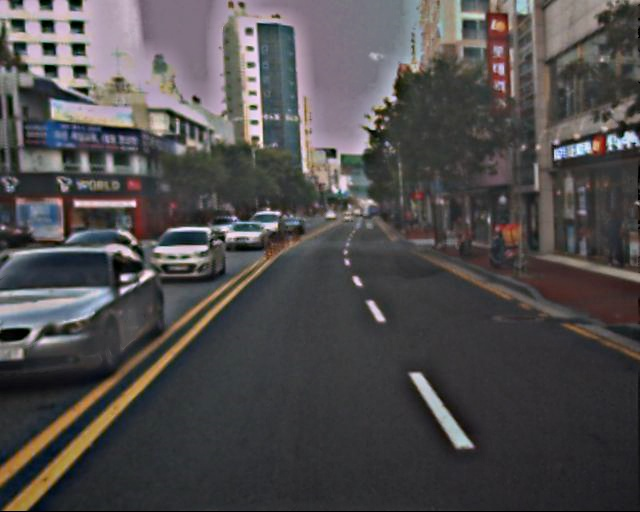person: (597, 209, 626, 267)
